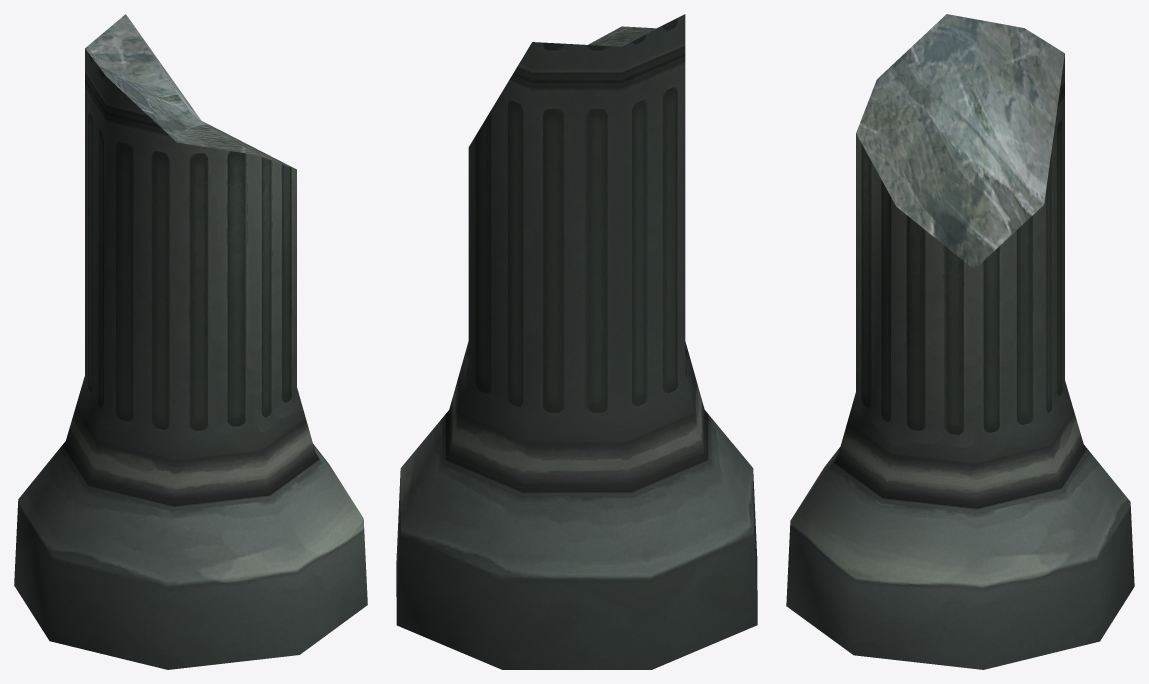
Rendered from Posun_SJBoss_Shizhu_01.FBX.
3 renders of one model, left to right at view 1: azimuth 30°, elevation 25°; view 2: azimuth 150°, elevation 25°; view 3: azimuth 270°, elevation 25°, orthographic. The views are drawn at different scales.
Parts seen in each view (by area): view 1: Posun_SJBoss_Shizhu_01; view 2: Posun_SJBoss_Shizhu_01; view 3: Posun_SJBoss_Shizhu_01.
Boxes of the visible parts, bbox=[...] form: Posun_SJBoss_Shizhu_01: bbox=[14, 14, 367, 669]; Posun_SJBoss_Shizhu_01: bbox=[396, 14, 757, 669]; Posun_SJBoss_Shizhu_01: bbox=[786, 14, 1134, 669].
Bounding box in the file's own units: 70.59 × 120 × 70.59.
